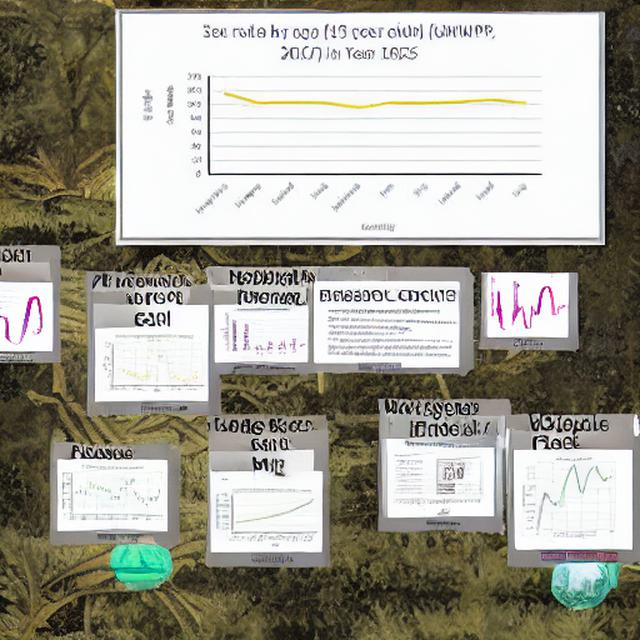Graph: (161, 15, 551, 233), (515, 452, 631, 539), (99, 332, 207, 396), (213, 487, 320, 549), (59, 465, 164, 525), (215, 307, 301, 358)
